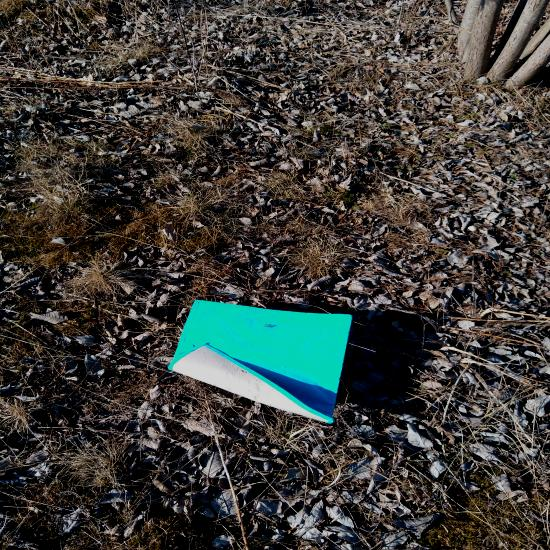Normal paper: (36, 239, 72, 273)
Other carton: (323, 484, 354, 501), (117, 501, 136, 516)
Other plastic: (138, 515, 162, 536)
Single-use carrier bag: (312, 206, 495, 288)
Unlabeled litter: (331, 430, 359, 440)
